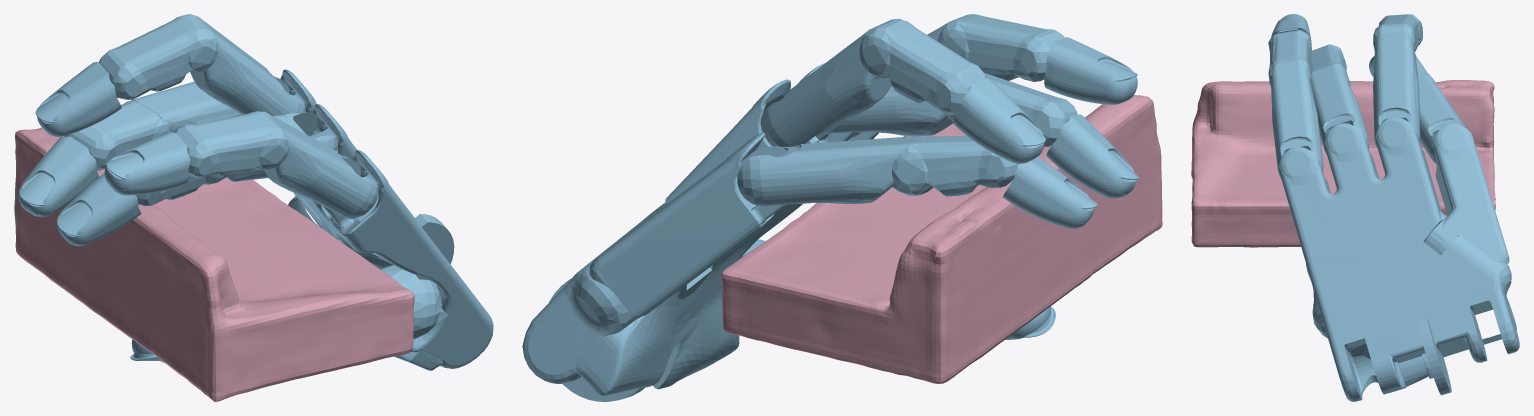
The picture shows the model from 3 angles, left to right: view 1: azimuth 30°, elevation 25°; view 2: azimuth 150°, elevation 25°; view 3: azimuth 270°, elevation 25°; orthographic projection. The views are drawn at different scales.
Parts seen in each view (by area): view 1: hand_isaac_q, world; view 2: hand_isaac_q, world; view 3: hand_isaac_q, world.
Boxes of the visible parts, x1,y1,x2,y2 form: hand_isaac_q: [18, 14, 493, 370]; world: [14, 127, 414, 401]; hand_isaac_q: [522, 14, 1139, 401]; world: [721, 95, 1162, 383]; hand_isaac_q: [1268, 14, 1519, 401]; world: [1191, 80, 1495, 247].
Bounding box in the file's own units: 0.1747 × 0.1385 × 0.1427.
